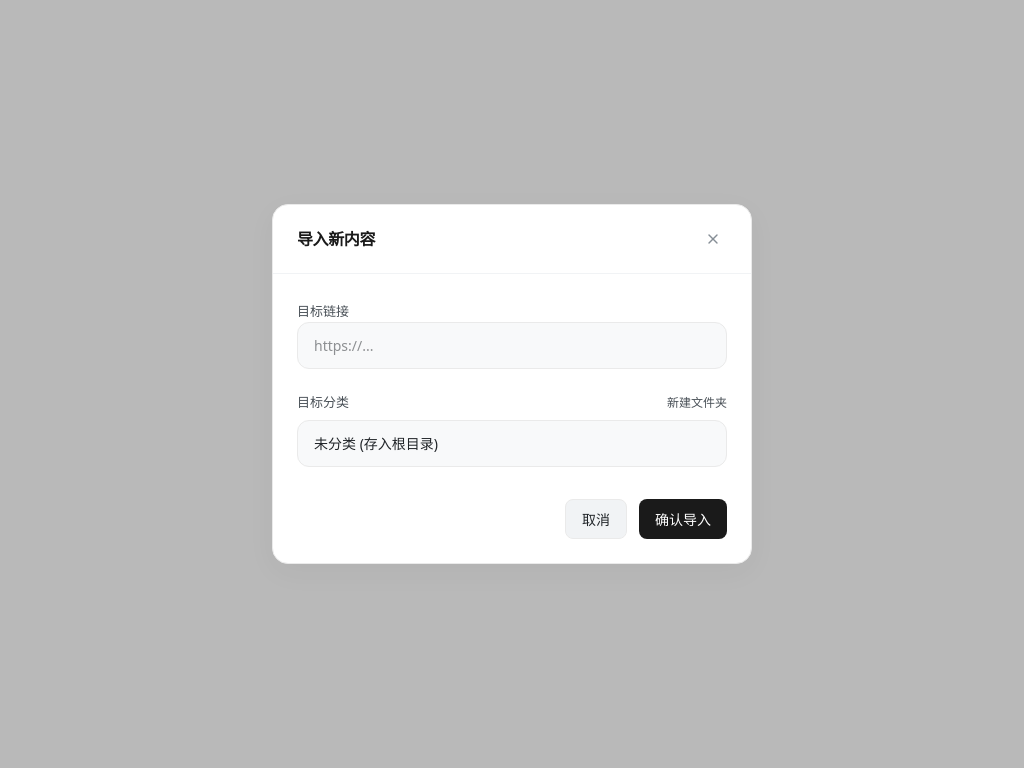
ImportModal › defaults to uncategorized and validates URL before submit
The image size is (1024, 768).
Expected: the dropdown labelled "目标分类" shows "未分类 (存入根目录)", [297,420,727,467]
Type "not-a-url" into the field labelled "目标链接" at x=512, y=345, box [297,322,727,369]
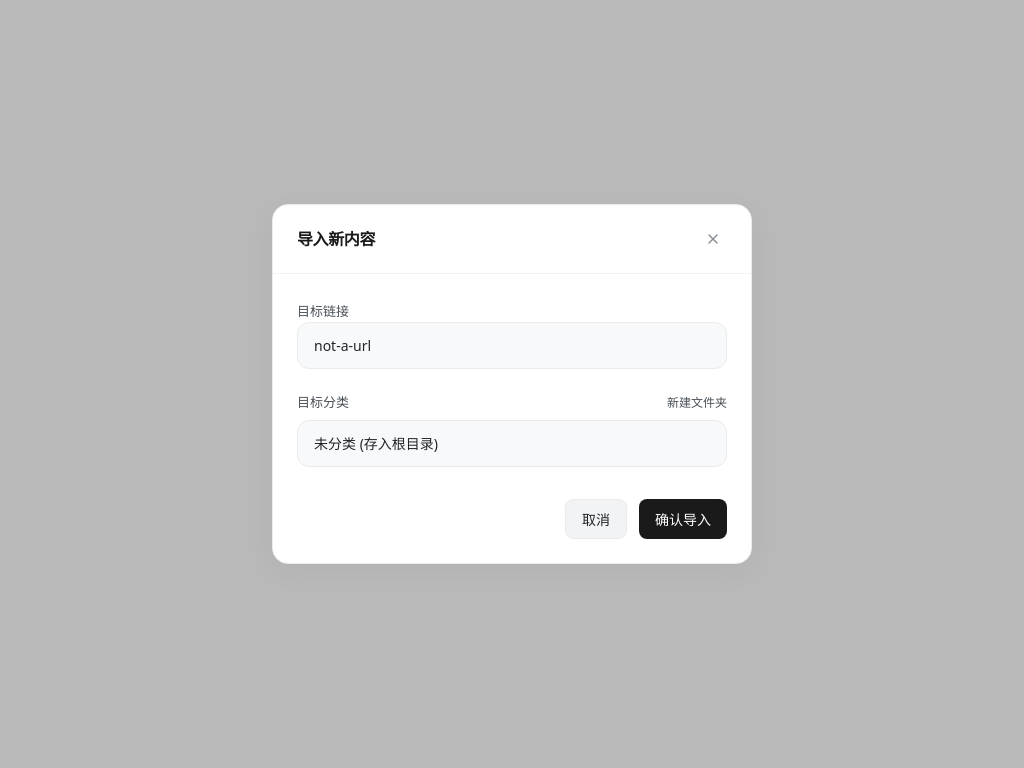
Click the button "确认导入" at x=683, y=519, box [639,499,727,539]
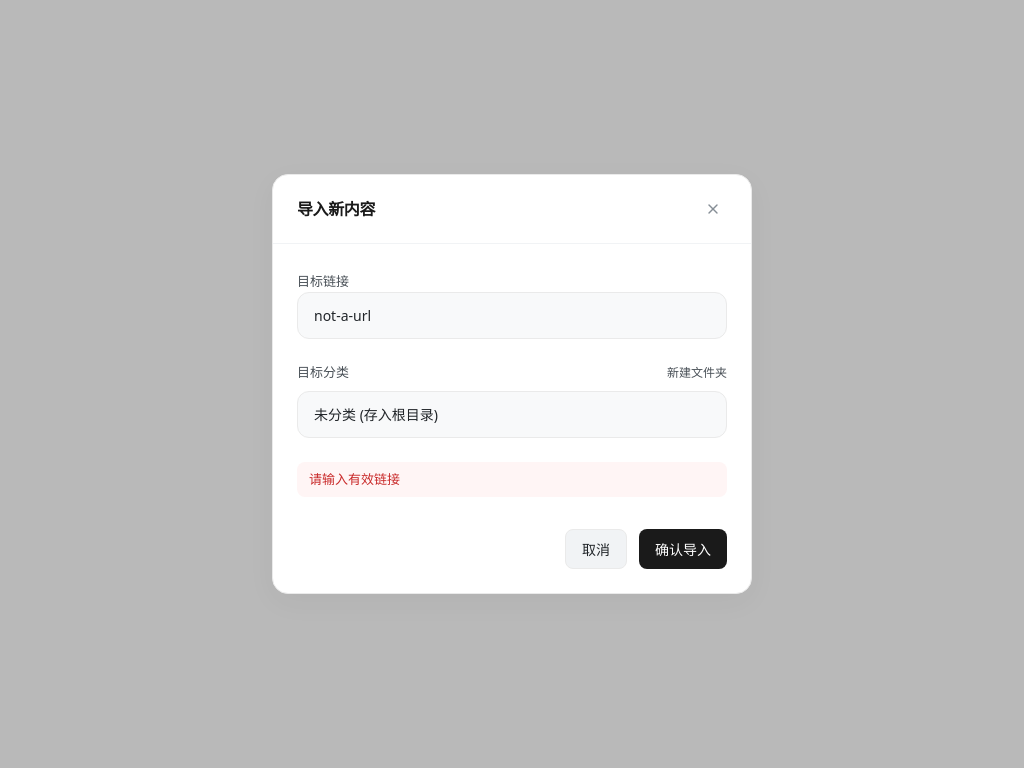
Result: the text "请输入有效链接" is shown at [297,462,727,497]
